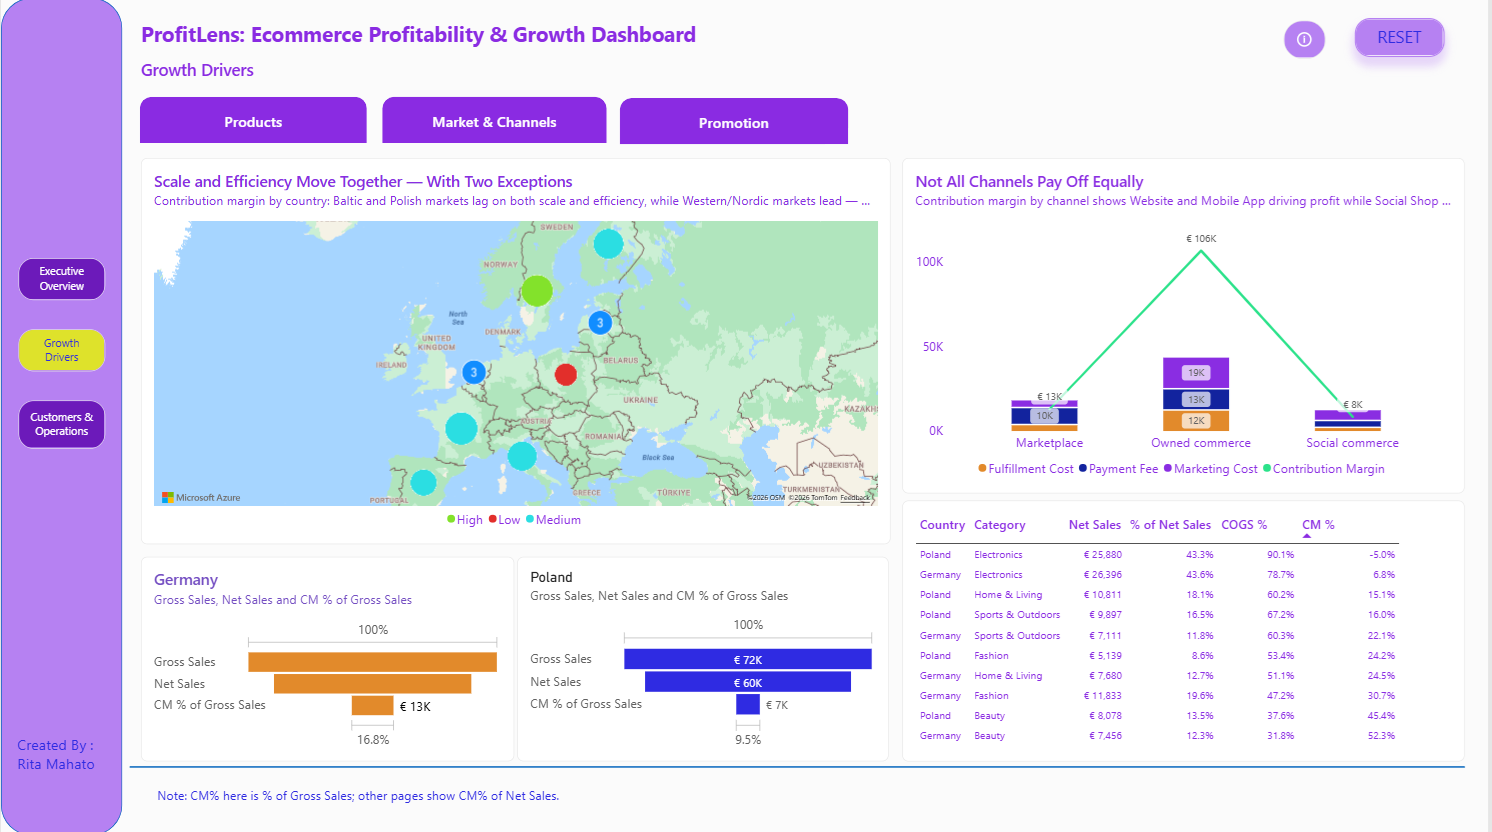

The page's visual inventory and layout, read from the dashboard file:
{"tool":"powerbi","page":{"name":"Growth Drivers","canvas":[1920,1080],"ordinal":1},"visuals":[{"type":"shape","box":[0,0,156.4,1080.6],"z":0},{"type":"actionButton","title":"Exec Overview Button","box":[22,336,112,54],"z":1000},{"type":"actionButton","title":"GD Button","box":[22,428,112,54],"z":2000},{"type":"actionButton","title":"Cust & Ops Button","box":[22,520,112,62],"z":3000},{"type":"textbox","title":"Sign Text box","box":[21.7,950.1,112.2,67],"z":4000},{"type":"textbox","title":"Report name Text box","box":[181,27.1,743.8,50.7],"z":5000},{"type":"actionButton","title":"Reset Button","box":[1746,26,116,50],"z":6000},{"type":"lineClusteredColumnComboChart","title":"Beauty Dominates, Electronics Lags — At Every Level","fields":{"Category":["DimProduct.Category","DimProduct.Subcategory"],"Y":["Measures (2).Contribution Margin"],"Y2":["Measures (2).Margin per Unit"]},"box":[179.2,235.3,933.8,732.9],"z":7000},{"type":"scatterChart","title":"Beauty Leads on Margin, Not Just Sales","fields":{"Series":["DimProduct.Category"],"Size":["Measures (2).Contribution Margin"],"X":["Measures (2).Total Units Sold"],"Y":["Measures (2).CM %"]},"box":[1127.4,235.3,754.6,266],"z":8000},{"type":"tableEx","title":"Product Contribution Table ","fields":{"Values":["DimProduct.ProductName","Measures (2).CM %","Measures (2).Contribution Margin","Measures (2).Product Return Rate %"]},"box":[1127.4,513.9,754.6,454.2],"z":9000},{"type":"actionButton","title":"Product Button","box":[179.2,126.7,293.2,59.7],"z":10000},{"type":"actionButton","title":"Market & ChannelButton","box":[492.2,126.7,289.5,59.7],"z":11000},{"type":"actionButton","title":"Promotion Button","box":[798.1,128.5,295,59.7],"z":12000},{"type":"actionButton","title":"Info On","box":[1654.6,28.6,54.5,49.4],"z":20000},{"type":"textbox","title":"Page name Text box","box":[181,77.8,155.6,47.1],"z":21000},{"type":"shape","title":"Separator","box":[166.5,968.2,1722.8,48.9],"z":24002}]}

Visuals, with their boxes on the page's 1920x1080 design canvas (x1, y1, x2, y2). These are canvas units, not pixel positions in the 1492x832 screenshot, which may show the page scaled, cropped or inside an application window:
shape: pyautogui.locateOnScreen(0, 0, 156, 1081)
"Exec Overview Button" actionButton: pyautogui.locateOnScreen(22, 336, 134, 390)
"GD Button" actionButton: pyautogui.locateOnScreen(22, 428, 134, 482)
"Cust & Ops Button" actionButton: pyautogui.locateOnScreen(22, 520, 134, 582)
"Sign Text box" textbox: pyautogui.locateOnScreen(22, 950, 134, 1017)
"Report name Text box" textbox: pyautogui.locateOnScreen(181, 27, 925, 78)
"Reset Button" actionButton: pyautogui.locateOnScreen(1746, 26, 1862, 76)
"Beauty Dominates, Electronics Lags — At Every Level" lineClusteredColumnComboChart: pyautogui.locateOnScreen(179, 235, 1113, 968)
"Beauty Leads on Margin, Not Just Sales" scatterChart: pyautogui.locateOnScreen(1127, 235, 1882, 501)
"Product Contribution Table " tableEx: pyautogui.locateOnScreen(1127, 514, 1882, 968)
"Product Button" actionButton: pyautogui.locateOnScreen(179, 127, 472, 186)
"Market & ChannelButton" actionButton: pyautogui.locateOnScreen(492, 127, 782, 186)
"Promotion Button" actionButton: pyautogui.locateOnScreen(798, 128, 1093, 188)
"Info On" actionButton: pyautogui.locateOnScreen(1655, 29, 1709, 78)
"Page name Text box" textbox: pyautogui.locateOnScreen(181, 78, 337, 125)
"Separator" shape: pyautogui.locateOnScreen(166, 968, 1889, 1017)
